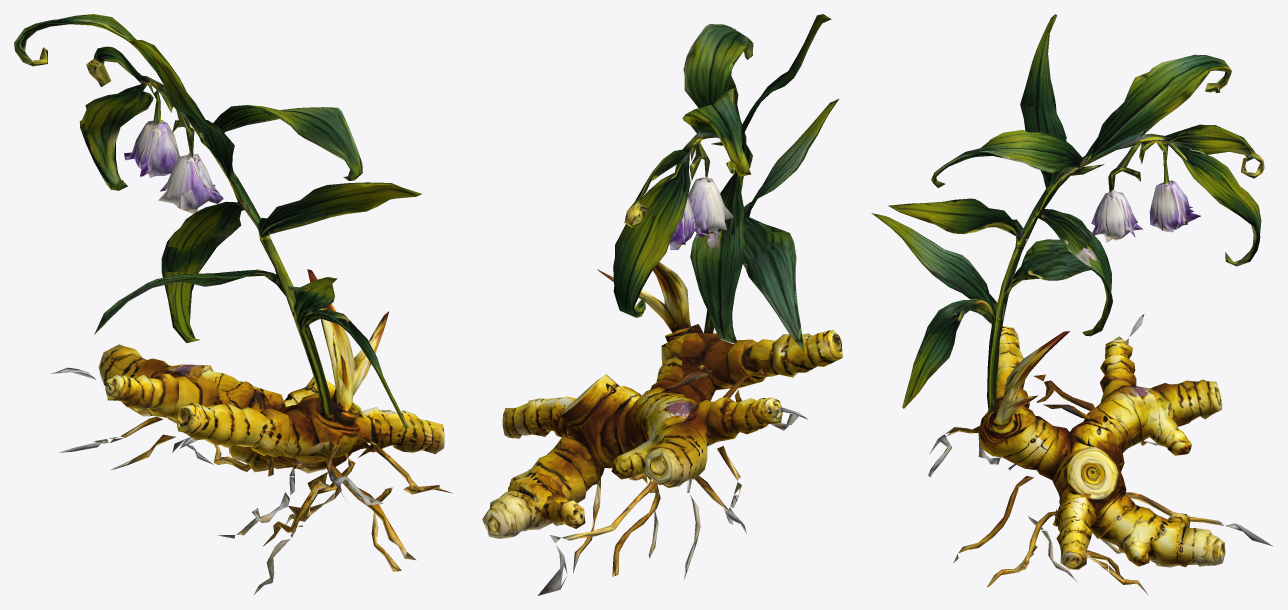
Rendered from huangjing.glb.
The picture shows the model from 3 angles, left to right: view 1: azimuth 30°, elevation 25°; view 2: azimuth 150°, elevation 25°; view 3: azimuth 270°, elevation 25°; orthographic projection. The views are drawn at different scales.
Parts seen in each view (by area): view 1: tripo_node_fbd10233-cd3e-426f-9ce7-07df599fa0e4; view 2: tripo_node_fbd10233-cd3e-426f-9ce7-07df599fa0e4; view 3: tripo_node_fbd10233-cd3e-426f-9ce7-07df599fa0e4.
Boxes of the visible parts, left/top/right/bottom form: tripo_node_fbd10233-cd3e-426f-9ce7-07df599fa0e4: left=14, top=14, right=452, bottom=594; tripo_node_fbd10233-cd3e-426f-9ce7-07df599fa0e4: left=482, top=14, right=842, bottom=595; tripo_node_fbd10233-cd3e-426f-9ce7-07df599fa0e4: left=871, top=14, right=1272, bottom=594.
Bounding box in the file's own units: 0.5983 × 0.9712 × 0.6917.
1 material, 1 textured.
